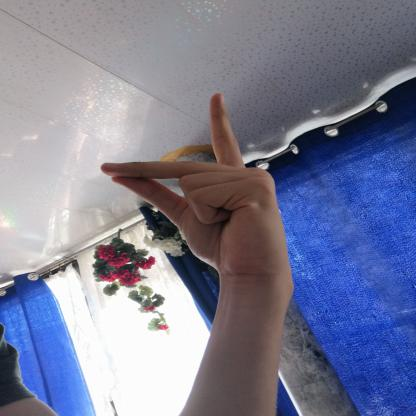TAA: (88, 84, 303, 287)
